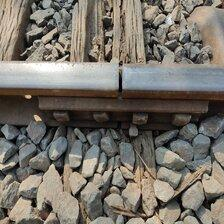railway-gap: (99, 57, 144, 104), (111, 117, 128, 133)
